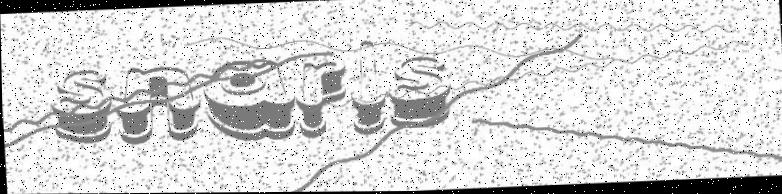a: (196, 50, 298, 146)
l: (345, 35, 390, 140)
n: (111, 58, 204, 149)
r: (287, 53, 355, 143)
s: (47, 60, 118, 149), (384, 52, 456, 131)
